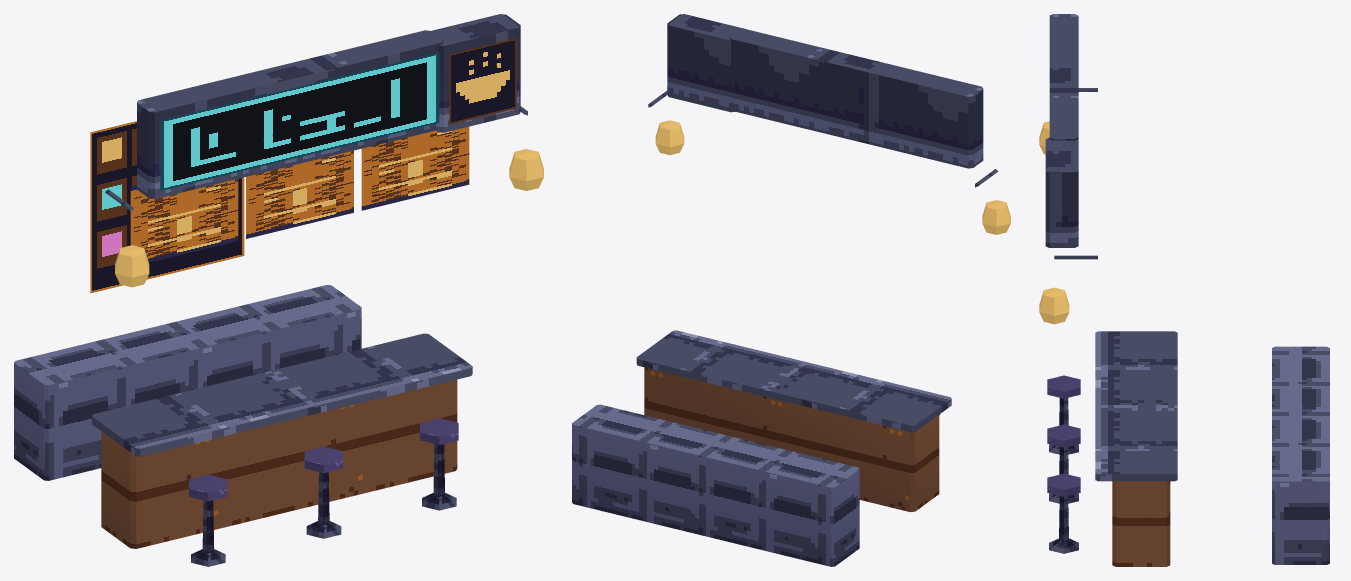
Rendered from cysign.noodle.glb.
3 views of the same model, side by side, from view 1: azimuth 30°, elevation 25°; view 2: azimuth 150°, elevation 25°; view 3: azimuth 270°, elevation 25° (orthographic). The views are drawn at different scales.
Parts seen in each view (by area): view 1: kit_counter, kit_card_cards, kit_stools; view 2: kit_counter, kit_stools; view 3: kit_counter, kit_stools.
Part boxes in pixels (box(x1,y1,x2,y2)): kit_counter: box(14, 14, 520, 548); kit_card_cards: box(90, 38, 516, 293); kit_stools: box(105, 106, 543, 566); kit_counter: box(572, 14, 983, 566); kit_stools: box(648, 90, 1010, 415); kit_counter: box(1045, 14, 1329, 566); kit_stools: box(1039, 88, 1097, 553).
Size of the model in its own units: 4.46 by 4.64 by 3.08.
Materials: 11 (11 with a texture image).
